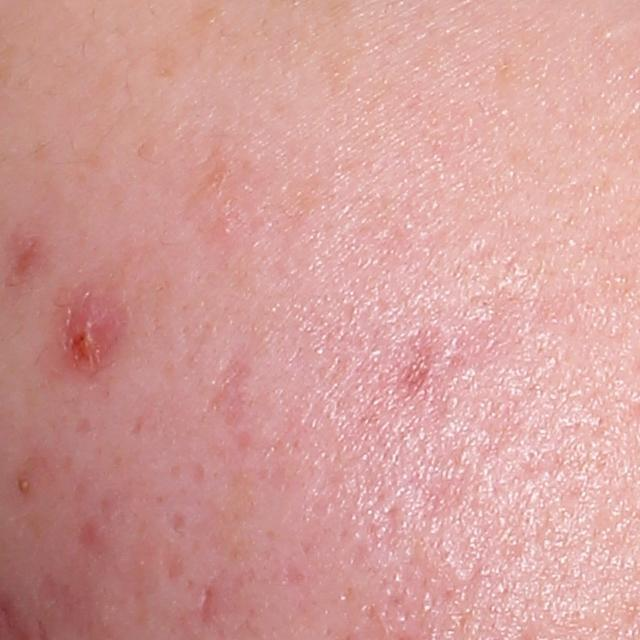atrophic_scar: (209, 354, 255, 429), (194, 590, 223, 625), (164, 546, 185, 580), (167, 510, 186, 535)
